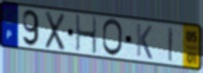9: (22, 8, 41, 48)
H: (75, 14, 98, 56)
I: (168, 26, 175, 64)
K: (135, 22, 153, 61)
O: (102, 17, 124, 58)
X: (44, 9, 67, 52)
